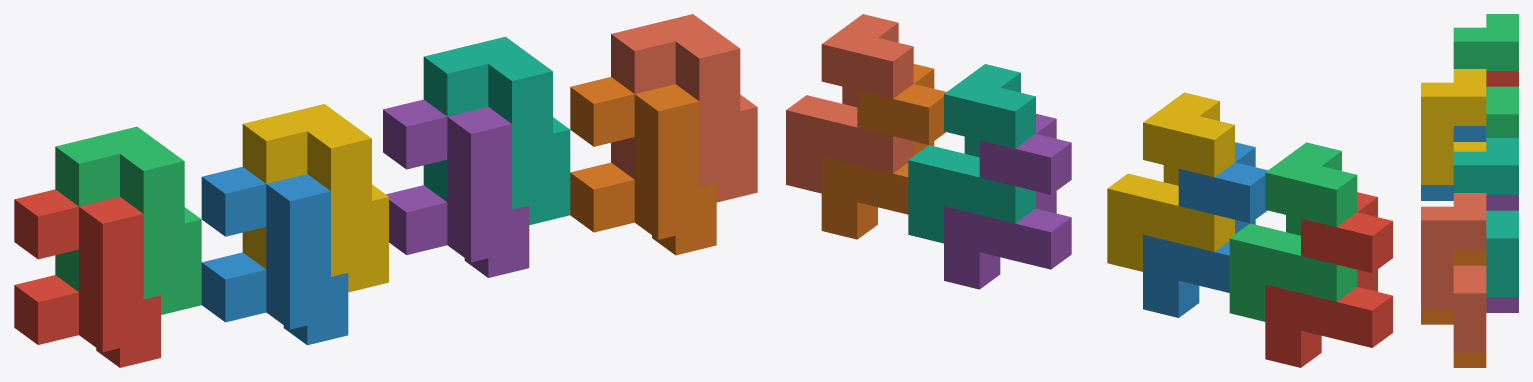
Rendered from tiling.obj.
3 views of the same model, side by side, from view 1: azimuth 30°, elevation 25°; view 2: azimuth 150°, elevation 25°; view 3: azimuth 270°, elevation 25° (orthographic). The views are drawn at different scales.
Visible parts, largest first — view 1: copy_1_domain_2, copy_1_domain_6, copy_1_domain_1, copy_1_domain_5, copy_1_domain_7, copy_1_domain_8, copy_1_domain_3, copy_1_domain_4; view 2: copy_1_domain_3, copy_1_domain_8, copy_1_domain_7, copy_1_domain_4, copy_1_domain_5, copy_1_domain_1, copy_1_domain_6, copy_1_domain_2; view 3: copy_1_domain_8, copy_1_domain_7, copy_1_domain_4, copy_1_domain_3, copy_1_domain_6, copy_1_domain_2, copy_1_domain_5, copy_1_domain_1.
Part boxes in pixels (left/top/right/bottom): copy_1_domain_2: left=201, top=166, right=348, bottom=345; copy_1_domain_6: left=570, top=77, right=716, bottom=255; copy_1_domain_1: left=14, top=189, right=160, bottom=367; copy_1_domain_5: left=383, top=99, right=529, bottom=277; copy_1_domain_7: left=423, top=36, right=570, bottom=224; copy_1_domain_8: left=611, top=14, right=757, bottom=202; copy_1_domain_3: left=55, top=126, right=201, bottom=314; copy_1_domain_4: left=242, top=104, right=388, bottom=292; copy_1_domain_3: left=1229, top=142, right=1357, bottom=321; copy_1_domain_8: left=786, top=14, right=913, bottom=193; copy_1_domain_7: left=908, top=64, right=1035, bottom=243; copy_1_domain_4: left=1107, top=92, right=1234, bottom=271; copy_1_domain_5: left=944, top=113, right=1071, bottom=289; copy_1_domain_1: left=1265, top=192, right=1392, bottom=367; copy_1_domain_6: left=821, top=64, right=946, bottom=239; copy_1_domain_2: left=1143, top=142, right=1267, bottom=317; copy_1_domain_8: left=1421, top=193, right=1486, bottom=352; copy_1_domain_7: left=1453, top=138, right=1518, bottom=297; copy_1_domain_4: left=1421, top=69, right=1486, bottom=184; copy_1_domain_3: left=1453, top=14, right=1518, bottom=137; copy_1_domain_6: left=1421, top=250, right=1486, bottom=367; copy_1_domain_2: left=1421, top=126, right=1486, bottom=200; copy_1_domain_5: left=1486, top=195, right=1518, bottom=312; copy_1_domain_1: left=1486, top=71, right=1518, bottom=86.
Size of the model in its own units: 17 by 5 by 3.
